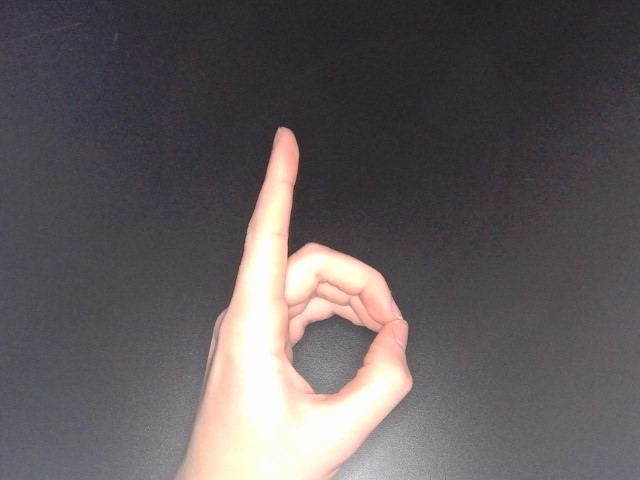d: (177, 122, 418, 480)
